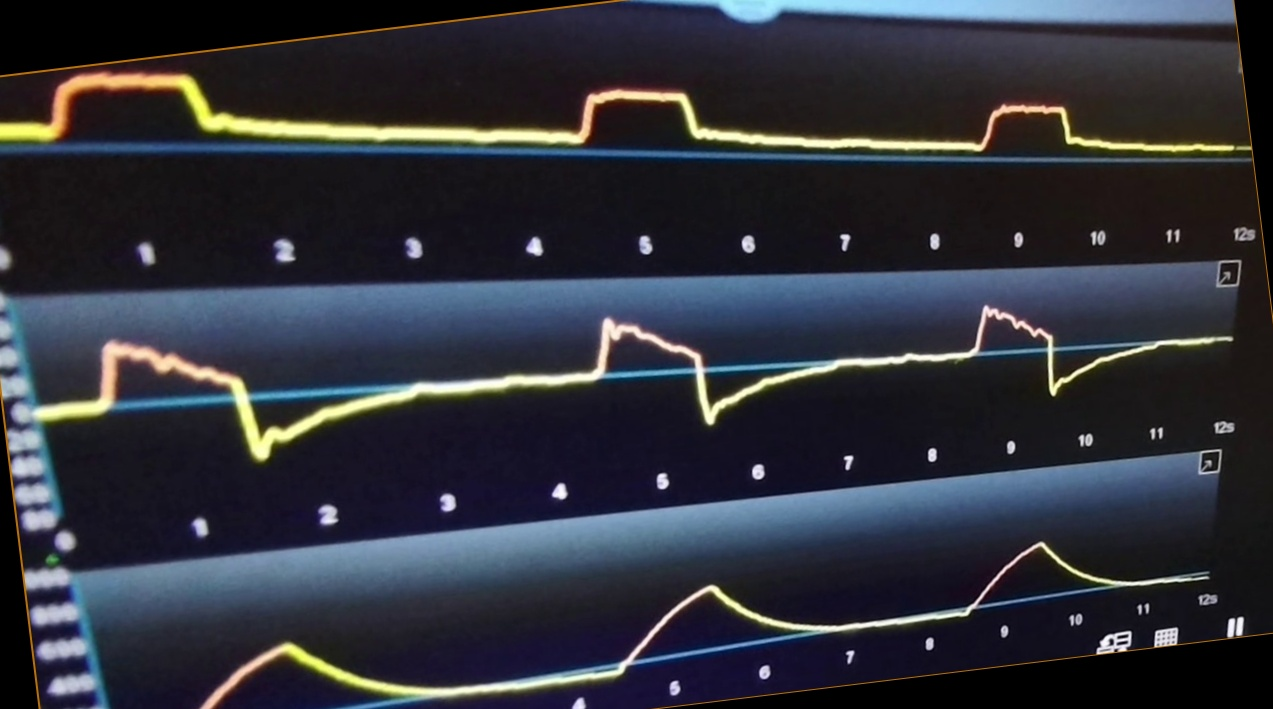Accumulation Flow: (61, 295, 1231, 461)
Volume: (173, 541, 1208, 709)
